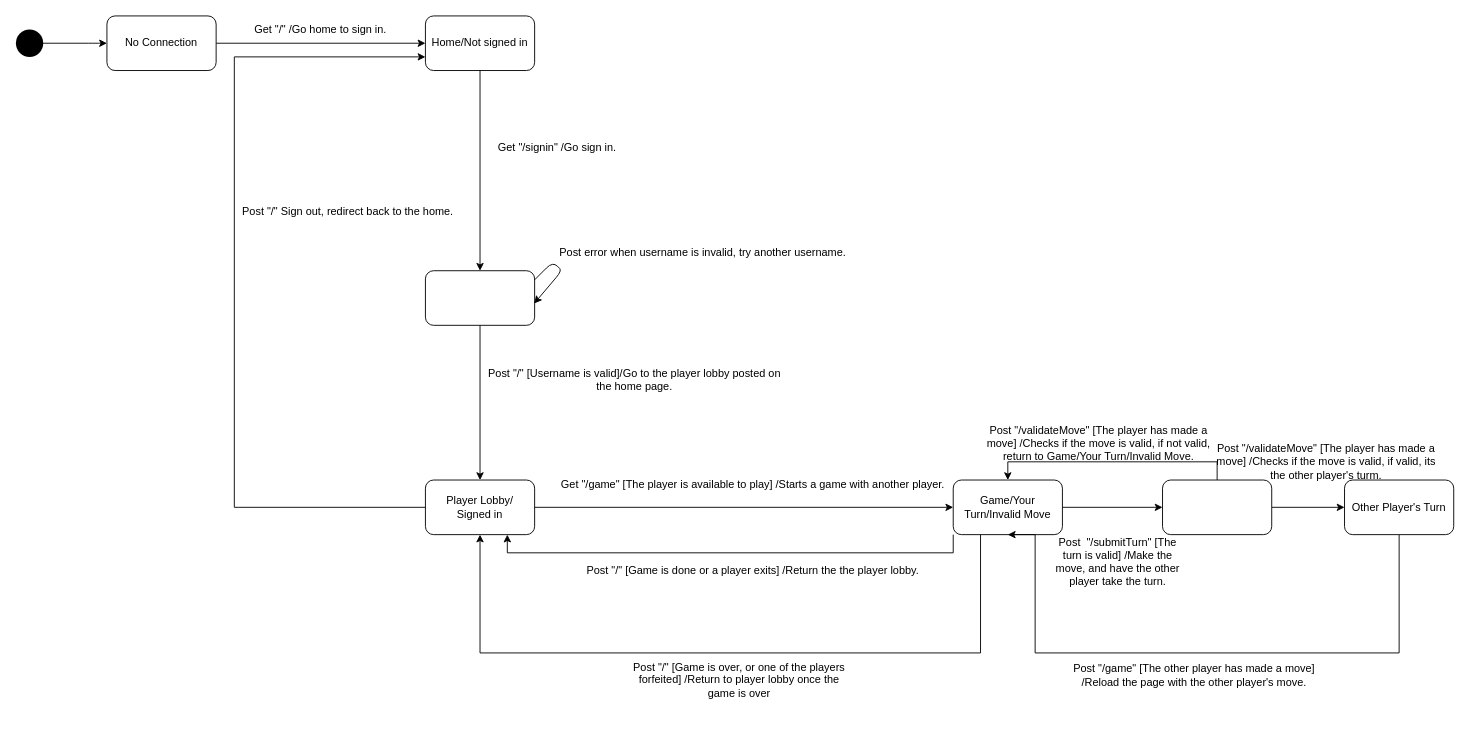
Image size: 1470x733. Some labels were removed from this diagram. Each missing label, with the centre of its shape:
"Move submitted" belongs at point 1217,507.
"Sign-in" belongs at point 480,297.
